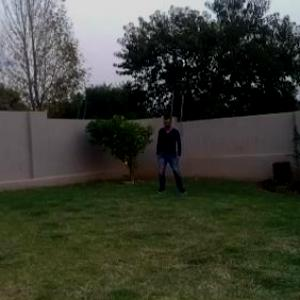follow: (156, 107, 185, 198)
